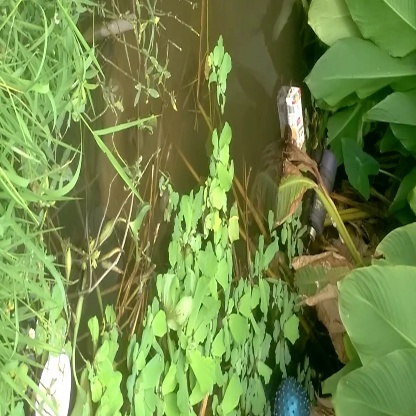milk-box: (269, 74, 314, 150)
